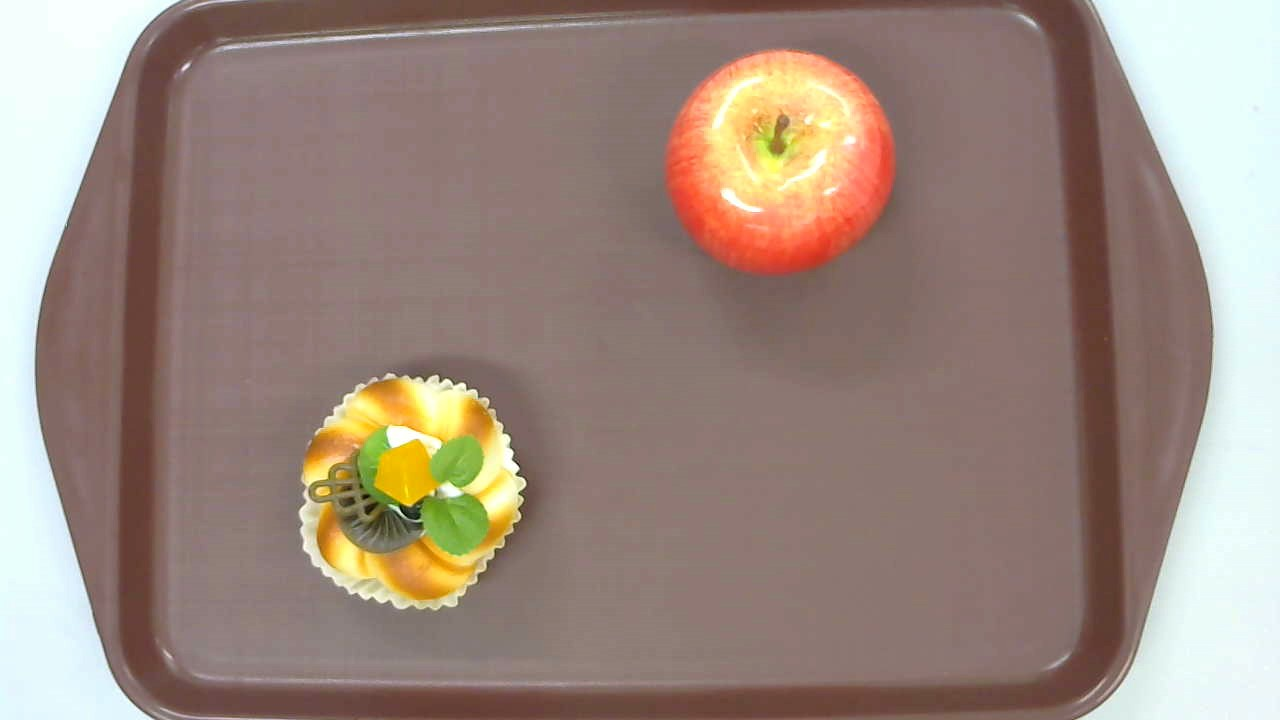fruit tart: (297, 372, 528, 614)
red apple: (662, 49, 896, 277)
